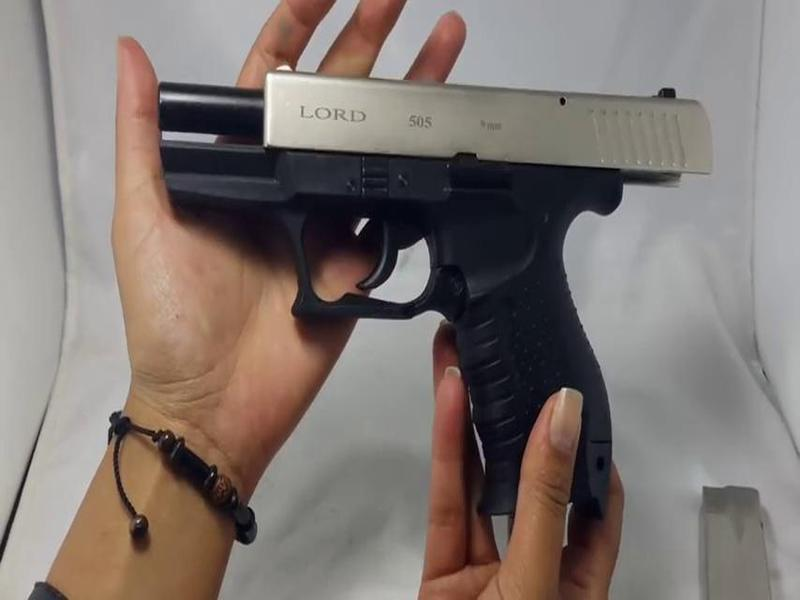Pistola: (130, 69, 727, 531)
